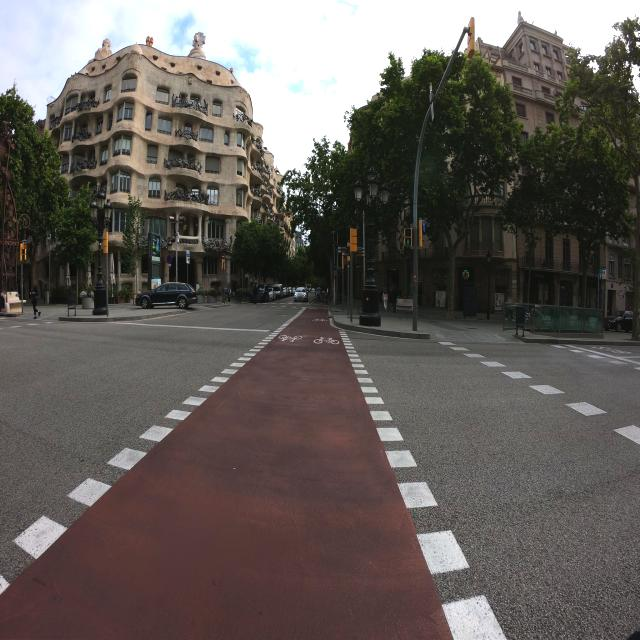car: (133, 281, 198, 310), (604, 308, 638, 333), (252, 282, 271, 303), (294, 286, 308, 302), (272, 284, 283, 300), (281, 285, 288, 297)
